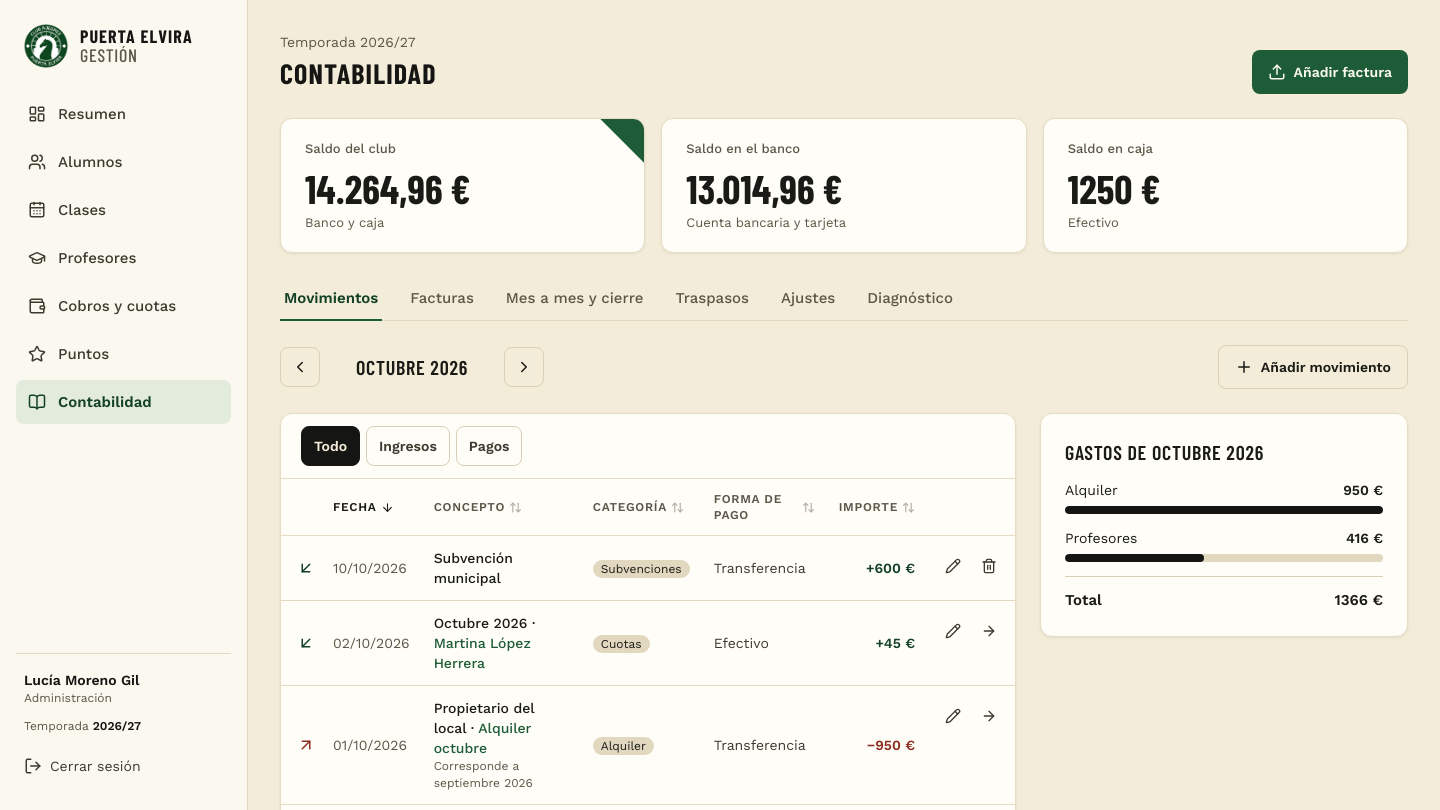
Test case: Contabilidad › sends automatic movements to the section where they are managed
This screenshot has width=1440, height=810.
Expected: the button named "Editar" is shown, [935,613,971,649]
Click the link named "Ir a Cobros": click(989, 631) [981,623,997,639]
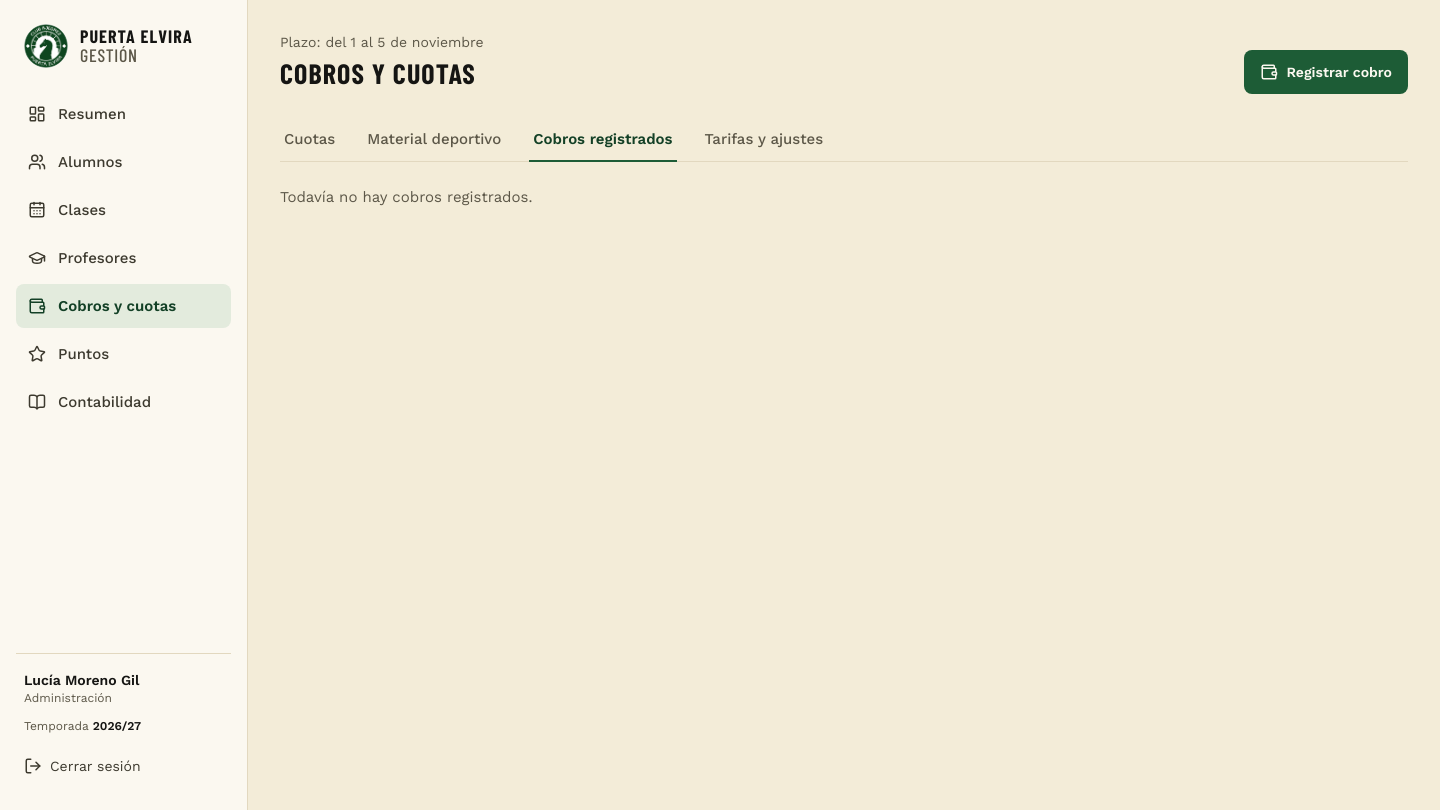
Result: the tab "Cobros registrados" is shown at [529,118,676,162]
